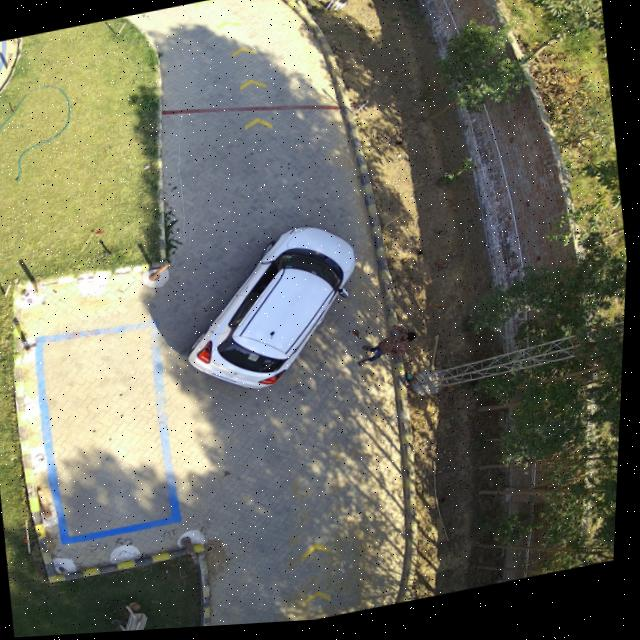car: (191, 231, 357, 392)
